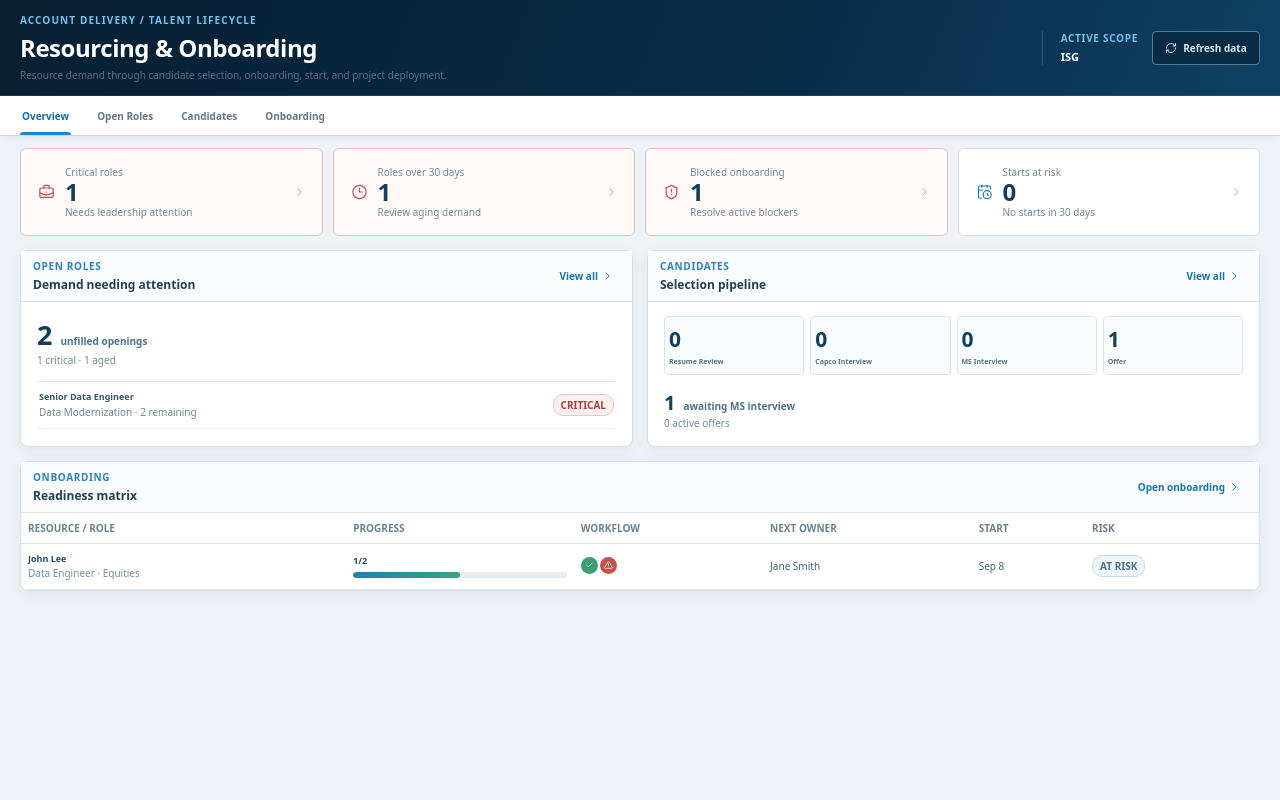
ResourcingView › hands an accepted offer to onboarding and closes the active candidate profile
Click the button "Candidates".
click(209, 116)  # box [179, 96, 239, 135]
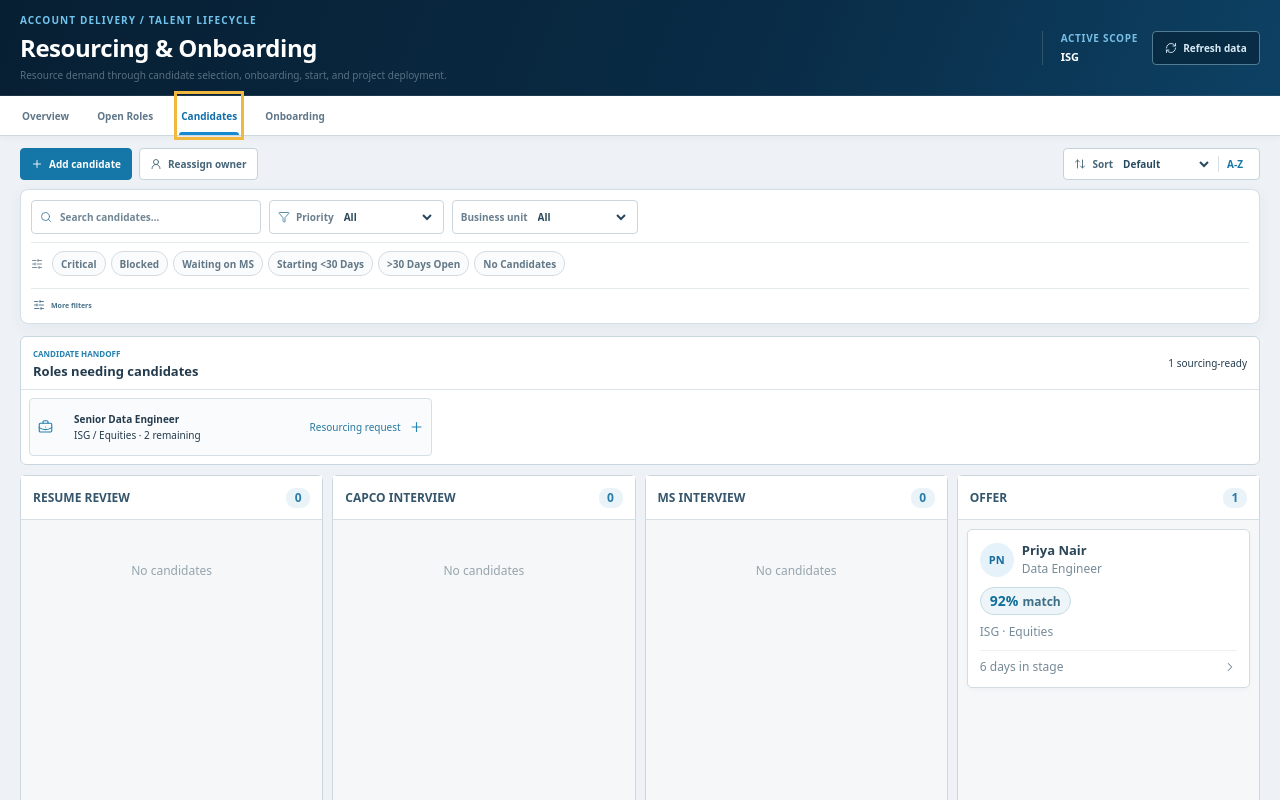
Click the button "Priya Nair".
click(997, 560)  # box [967, 529, 1250, 688]
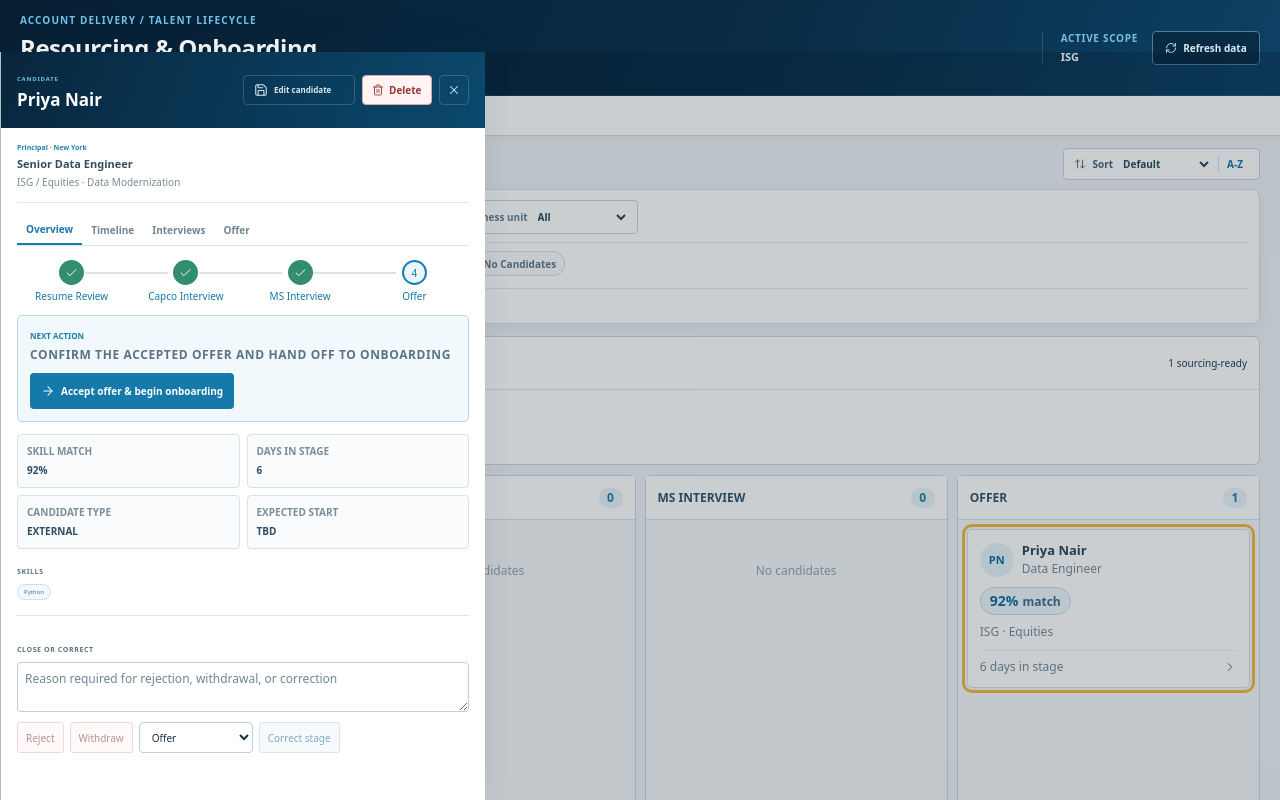
Click the button "Accept offer & begin onboarding".
click(132, 391)  # box [30, 373, 234, 409]
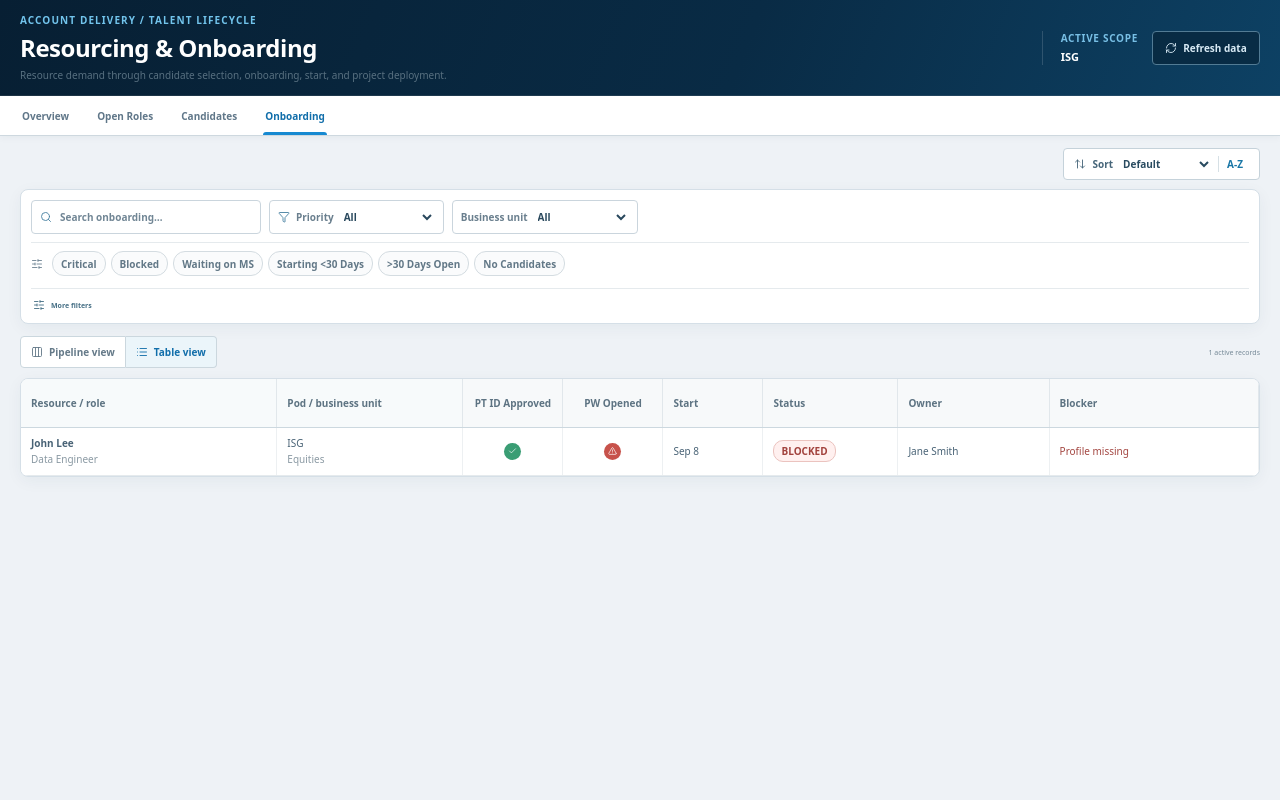
Now the column heading "PT ID Approved" is shown, box [463, 379, 563, 427]
Now the button "Priya Nair" is gone
